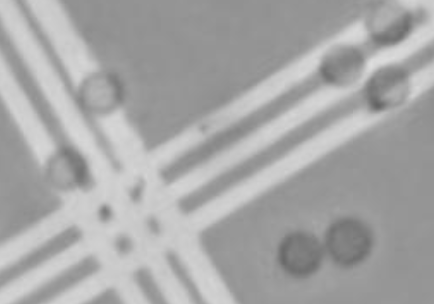cell: (317, 209, 377, 271), (358, 60, 415, 120), (272, 221, 327, 281), (71, 64, 129, 118), (316, 35, 371, 91), (358, 1, 418, 52), (39, 144, 90, 193)
